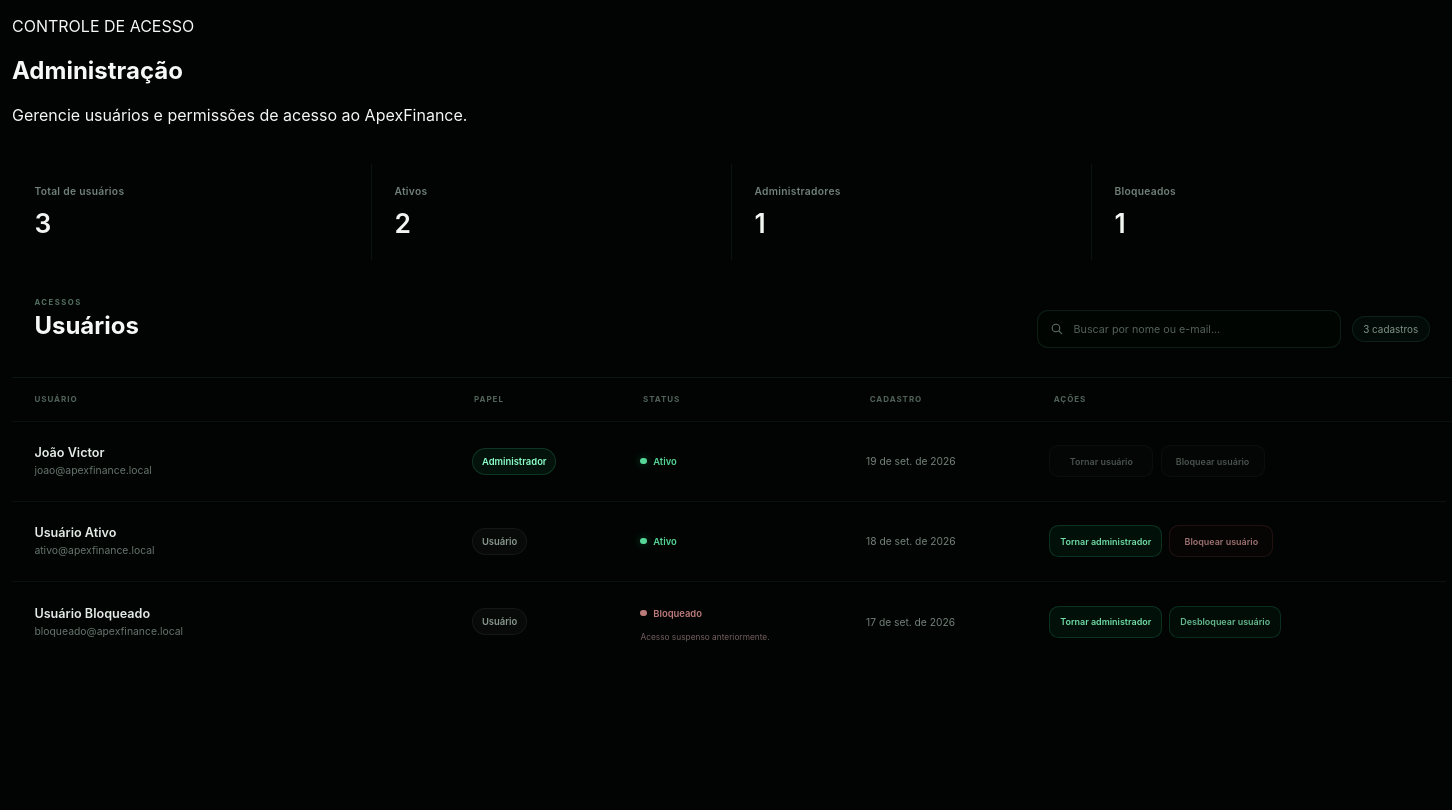
Test: Gerenciamento de status na Administração › desbloqueia um usuário bloqueado
This screenshot has width=1452, height=810.
Expected: the list item "Usuário Bloqueado" is shown, [34,606,150,621]
Click the button "Desbloquear usuário": (1225, 622) [1169,606,1281,638]
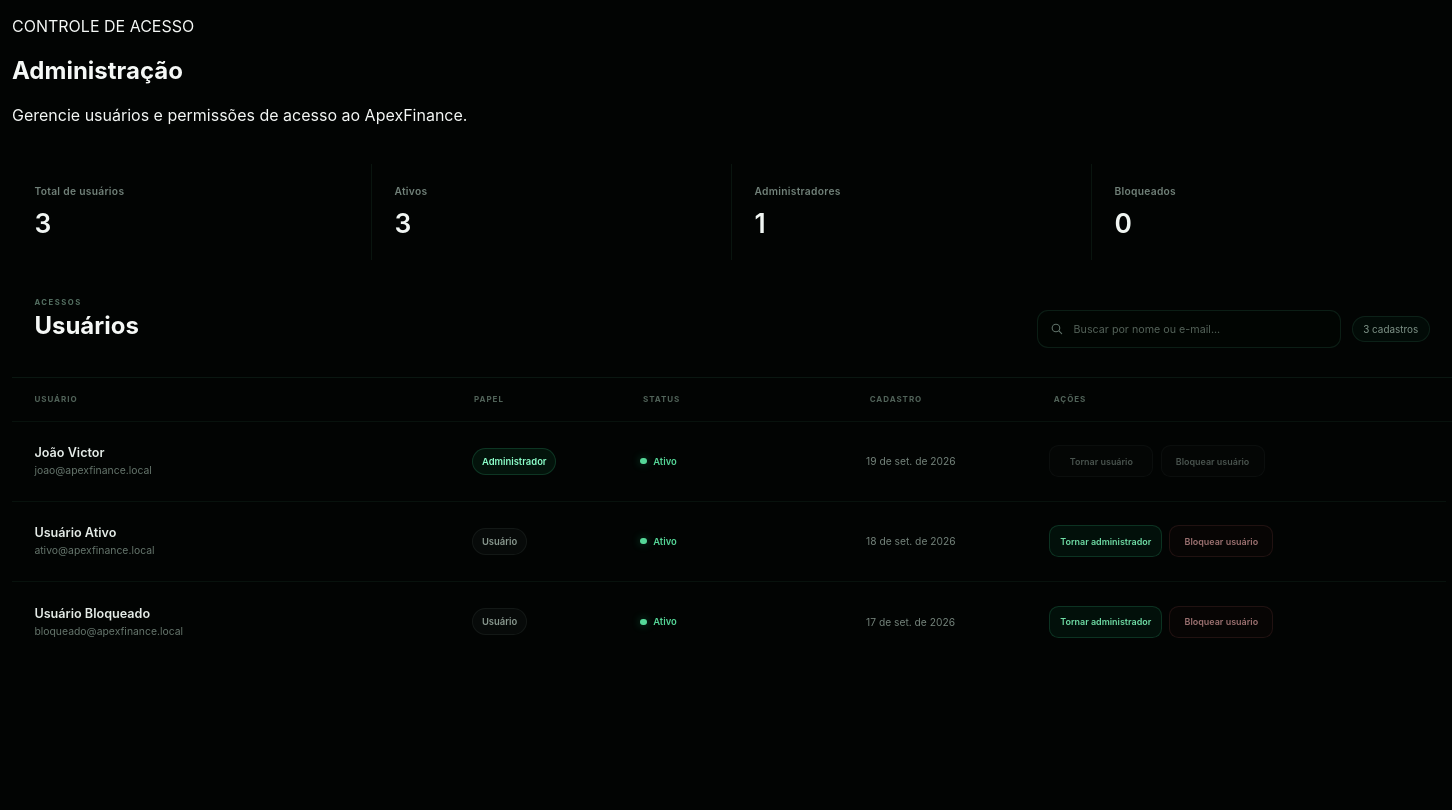
Now the text "Ativo" in the row of "Usuário Bloqueado" is shown, box [653,616,677,627]
